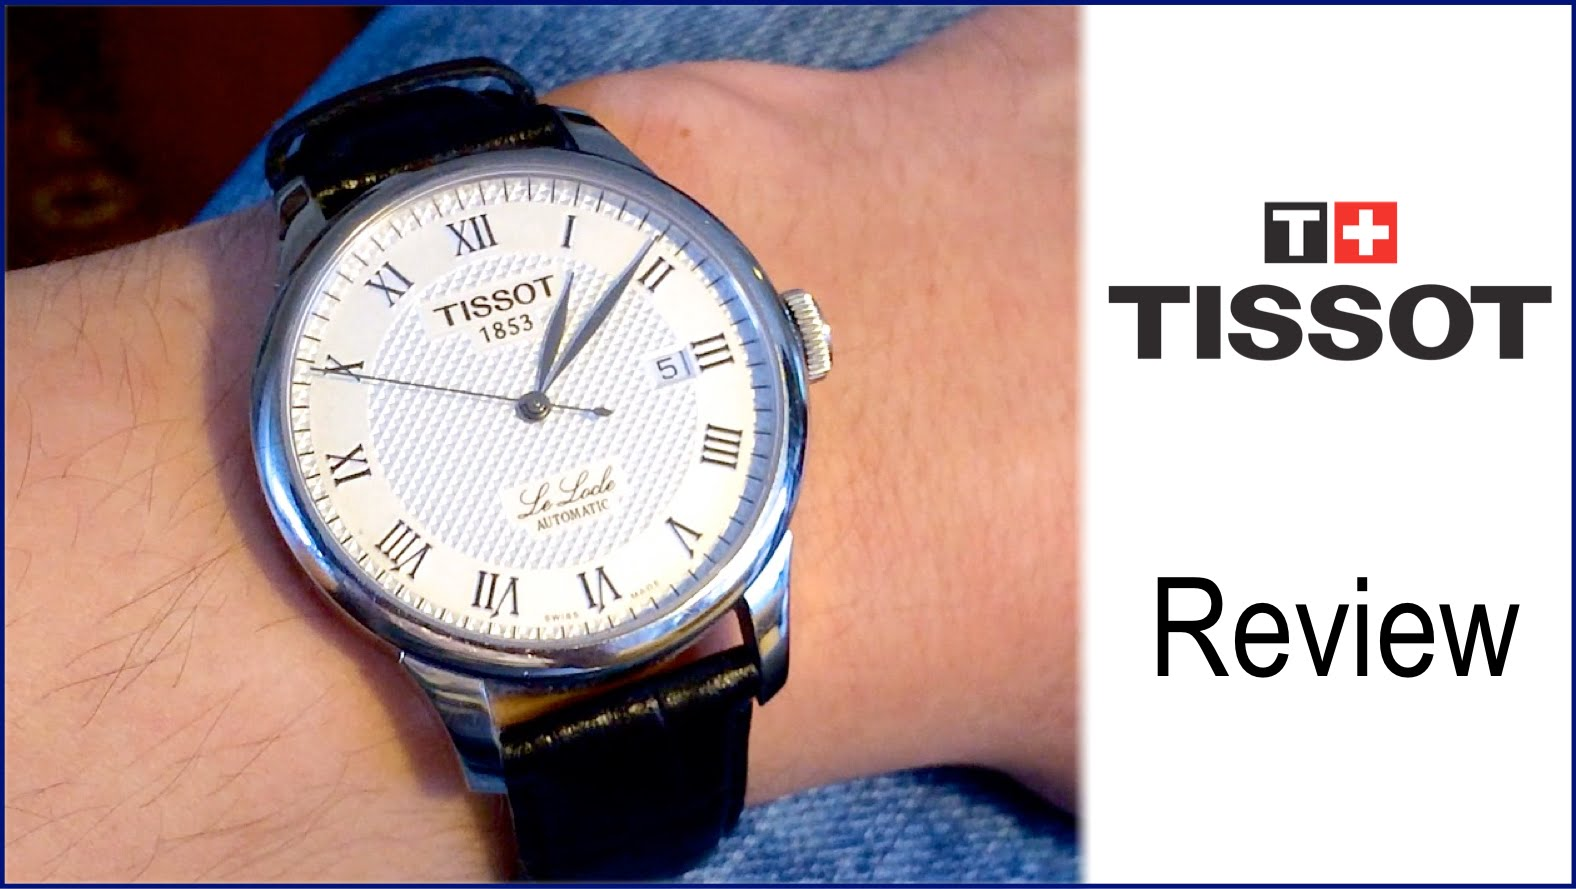clock: (245, 143, 814, 692)
